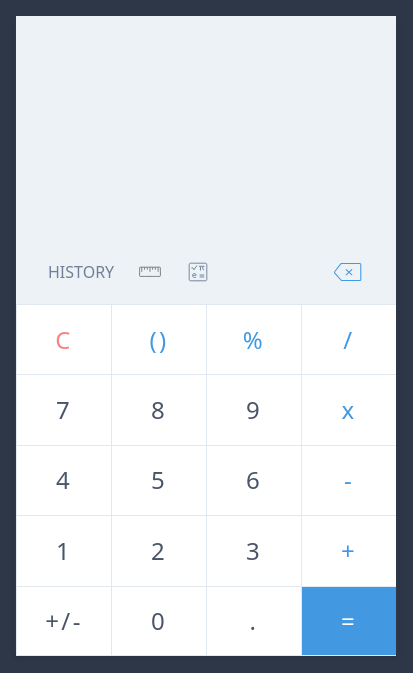
Test: can convert values to percentages
Click the element showing "4" at [64, 480], box [16,445,111,515]
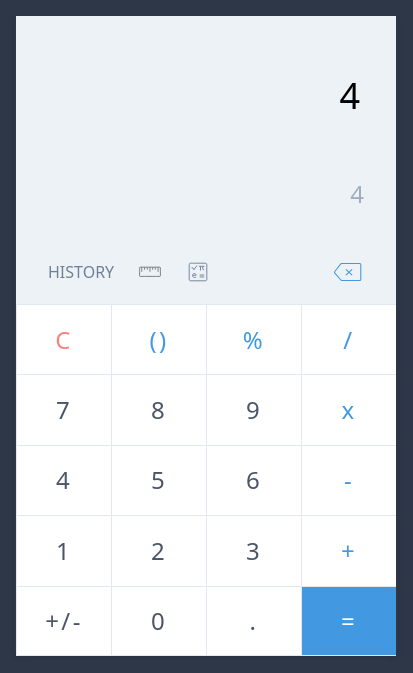
Click the element showing "2" at [159, 550], box [111,515,206,585]
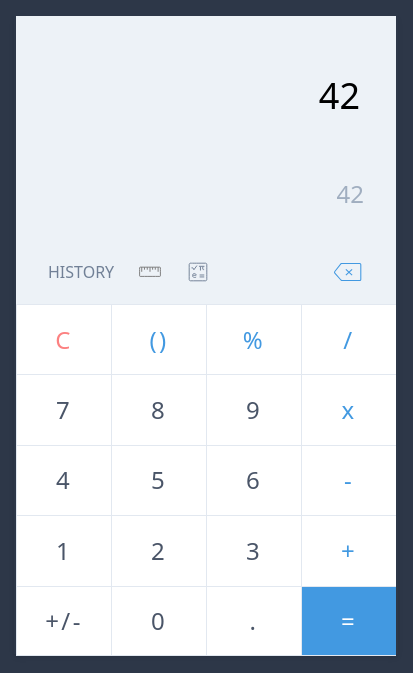
Click the element showing "%" at [254, 339], box [206,304,301,374]
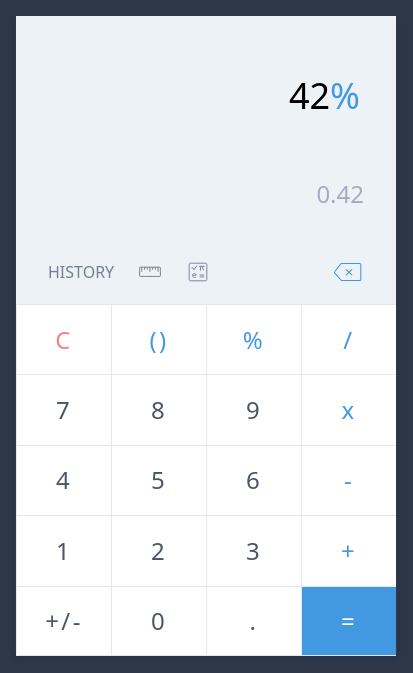
Click the element showing "=" at [349, 621], box [301,586,396,656]
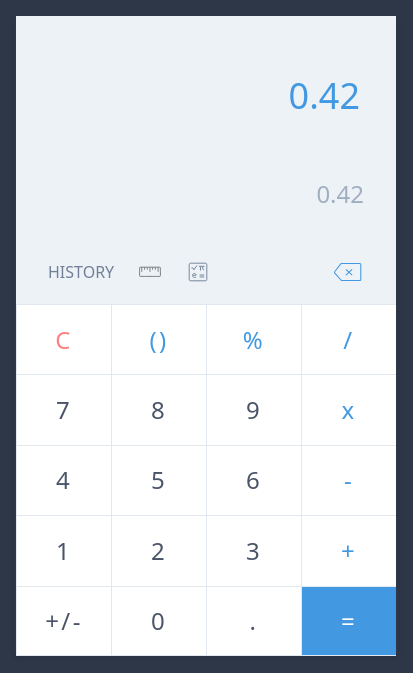
Result: the element with test id "calculator-input" reads "0.42" at [289,69,364,123]
